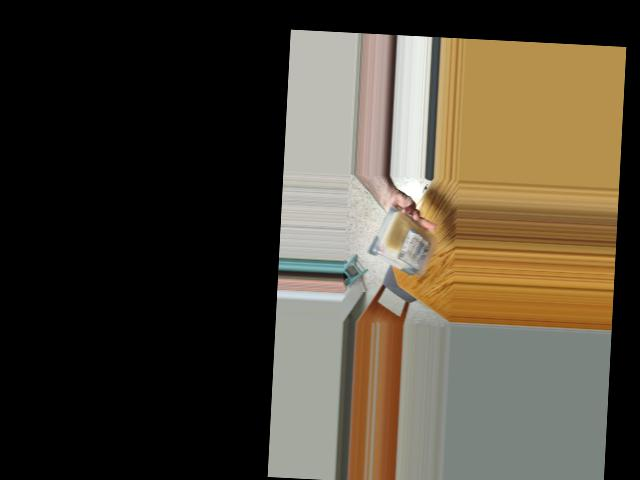cheese: (367, 221, 433, 276)
